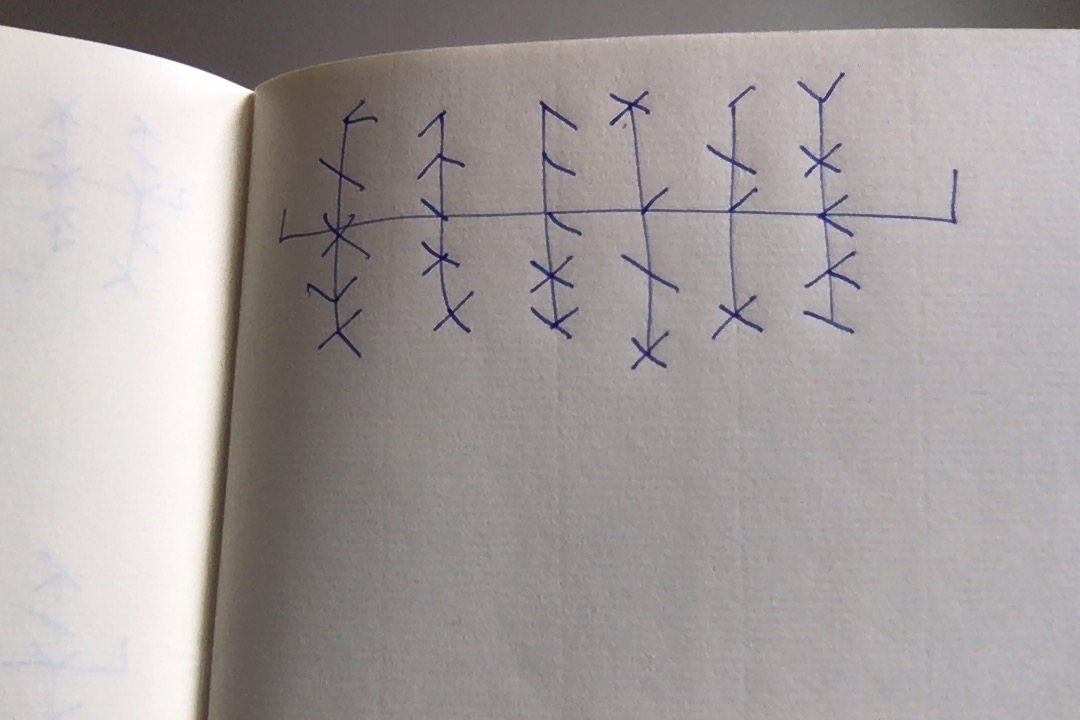Bar: (610, 91, 679, 369), (307, 99, 379, 358), (796, 72, 861, 334), (706, 86, 764, 340), (417, 109, 475, 333), (529, 100, 580, 340)
Barcode: (278, 71, 959, 370)
End: (849, 169, 959, 225)
Start: (279, 209, 322, 244)
